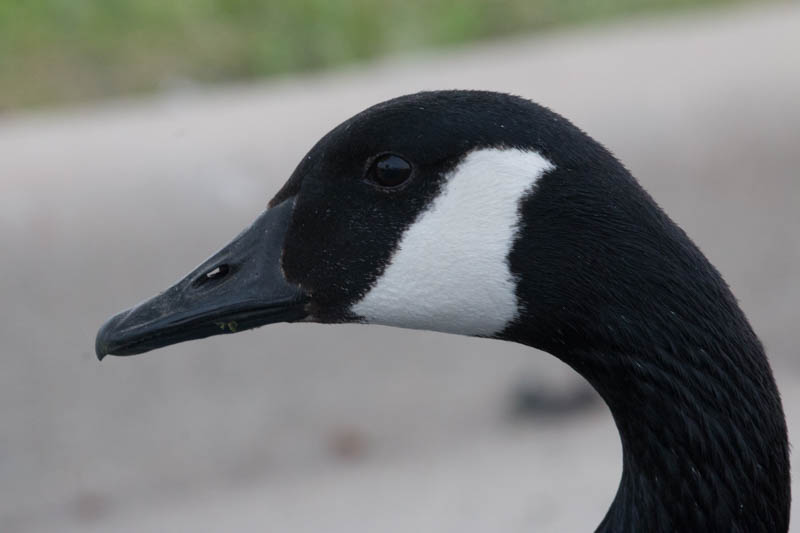goose-head: (94, 90, 604, 360)
